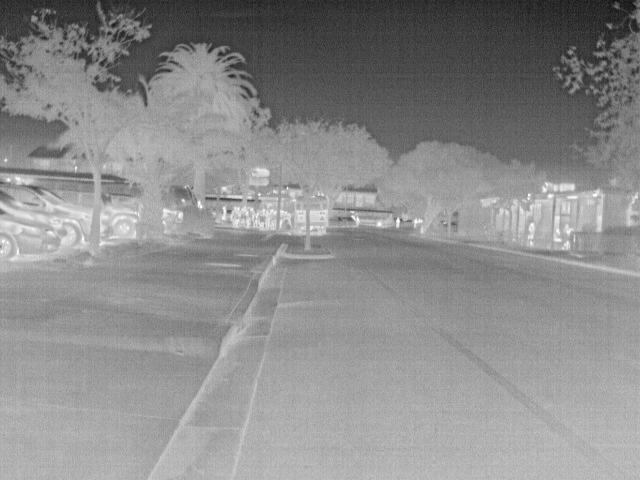car: (1, 180, 95, 250), (5, 208, 60, 260), (104, 202, 141, 240), (161, 206, 184, 236)
person: (526, 222, 538, 250), (562, 225, 576, 249), (553, 227, 565, 241), (394, 216, 403, 228)
